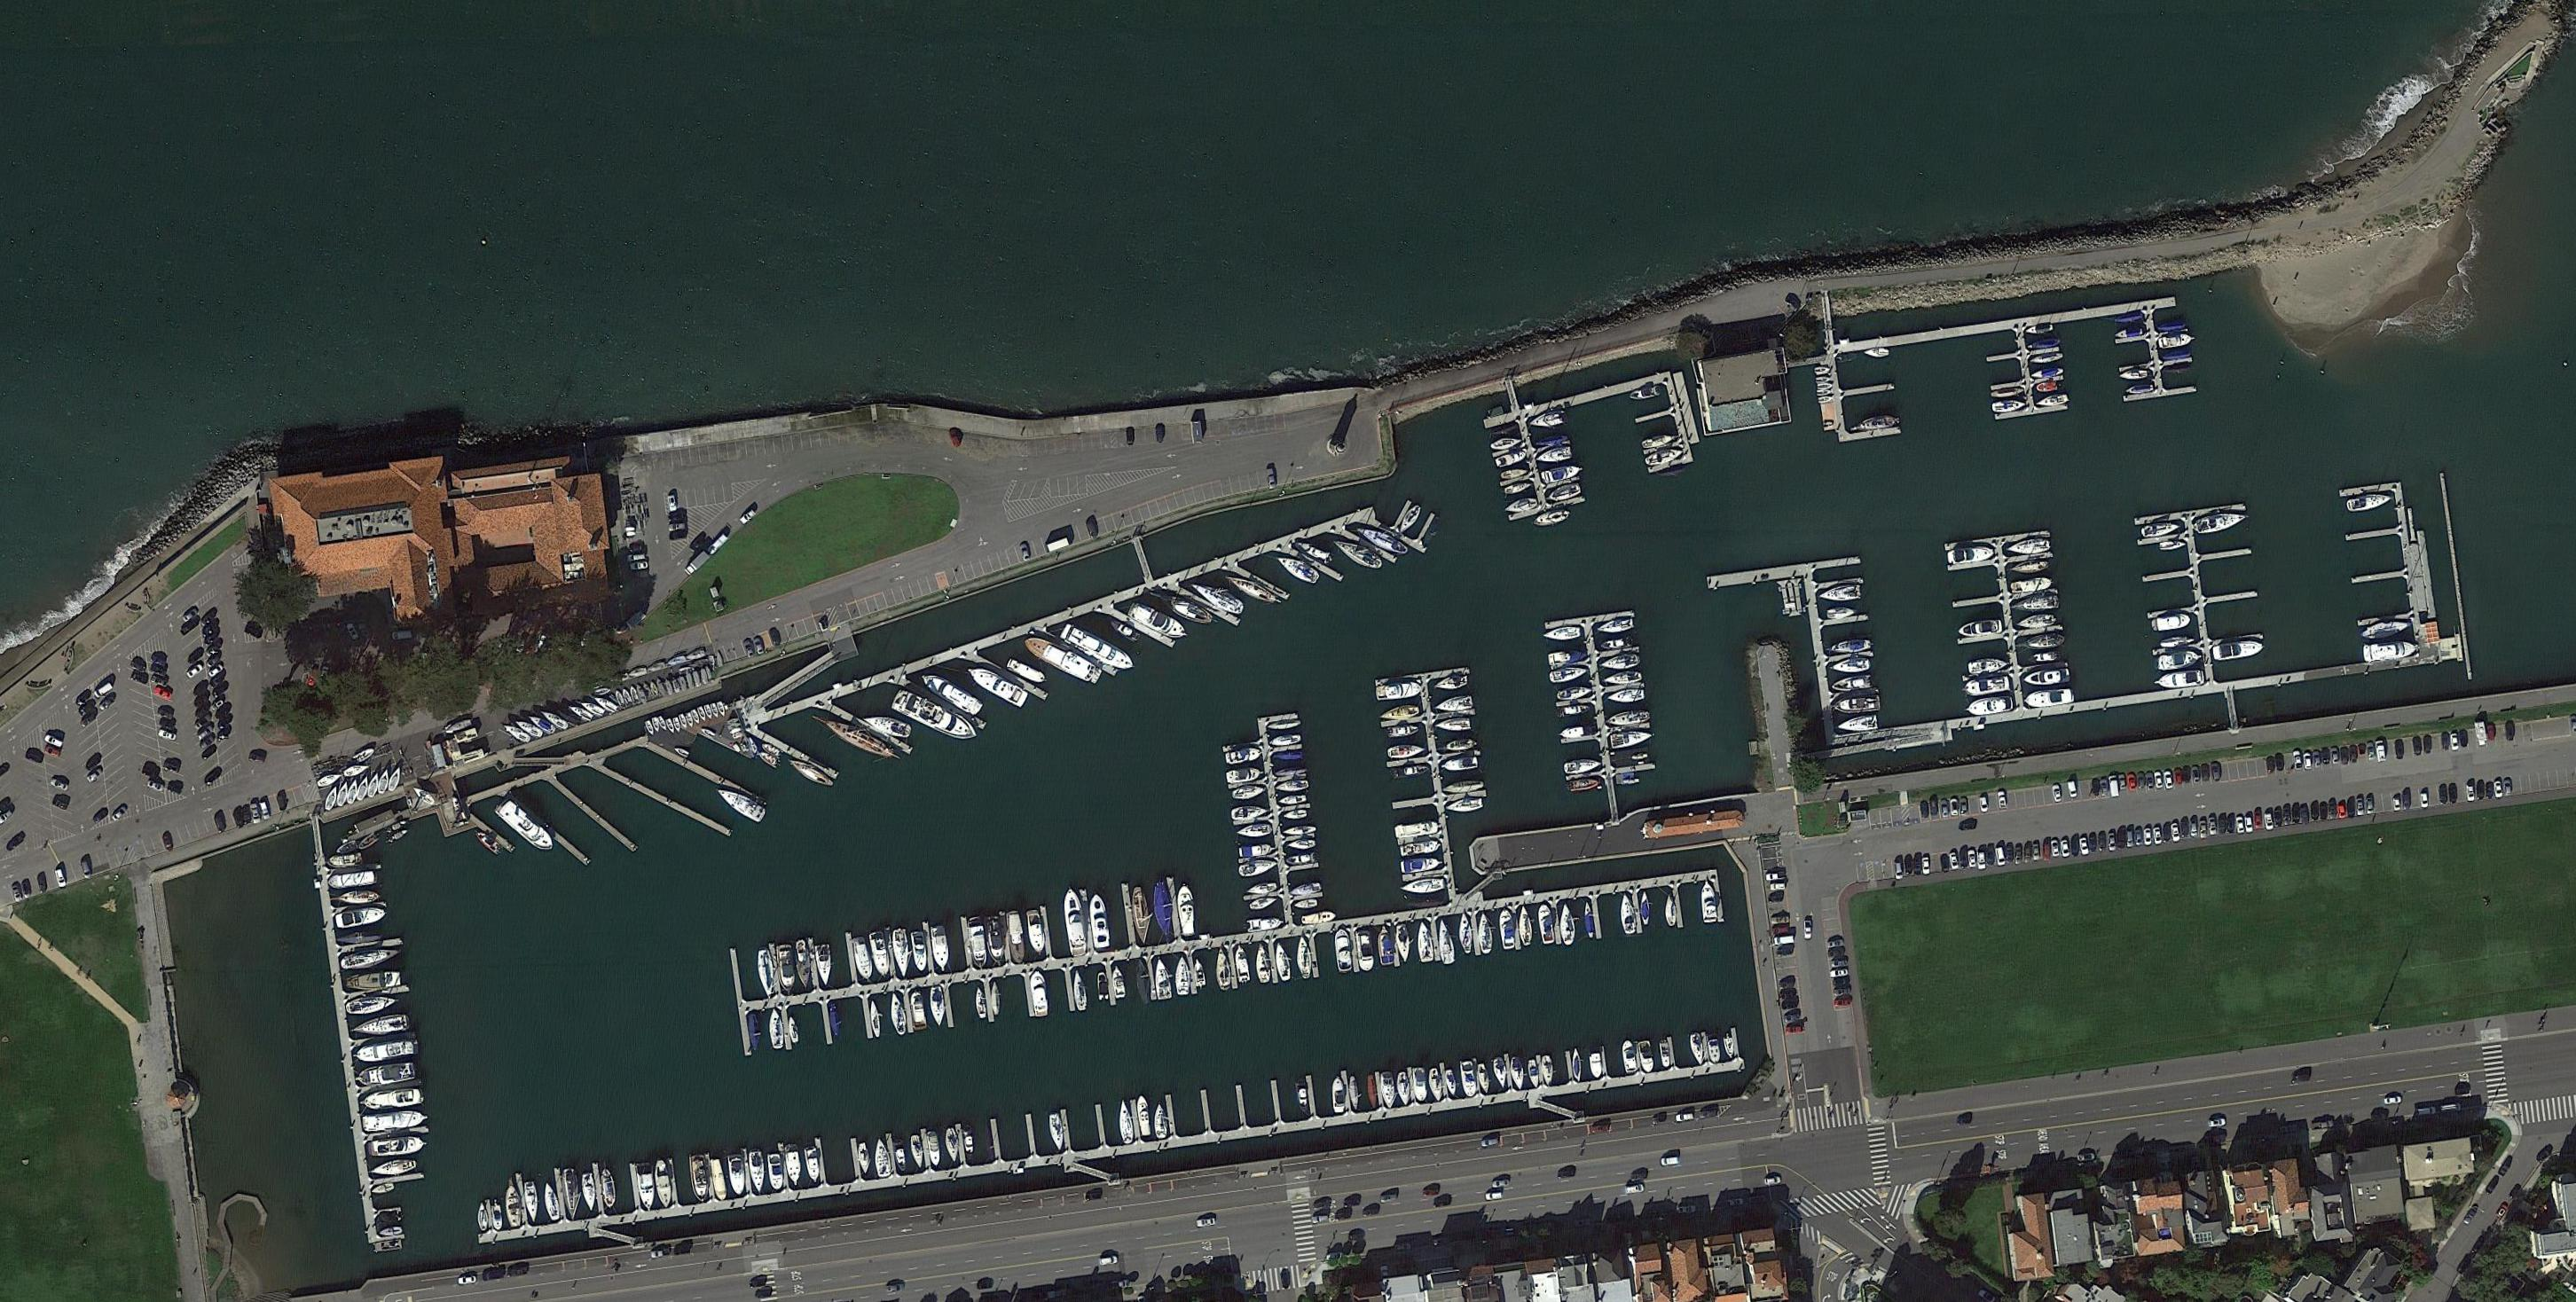harbor: (483, 488, 1453, 890), (468, 1016, 1747, 1246), (727, 870, 1244, 1058), (1242, 869, 1726, 988), (316, 854, 440, 1244), (2134, 503, 2270, 688), (1943, 530, 2076, 717), (1219, 712, 1327, 927), (1545, 613, 1659, 812), (1375, 668, 1491, 847), (2338, 480, 2441, 646), (1802, 556, 1887, 737), (1485, 399, 1586, 523), (1980, 312, 2069, 422), (2111, 294, 2199, 404), (1825, 337, 1902, 443), (1626, 372, 1696, 475)
ship: (892, 688, 982, 747), (1058, 619, 1138, 679), (1020, 631, 1103, 688), (820, 712, 900, 767), (495, 797, 558, 859), (918, 669, 985, 719), (965, 661, 1030, 709), (1126, 600, 1191, 646), (1149, 585, 1216, 629), (1330, 535, 1385, 576), (714, 784, 769, 825), (1355, 521, 1412, 561), (1224, 570, 1279, 609), (1189, 580, 1246, 618), (1061, 887, 1088, 958), (1274, 550, 1322, 588), (786, 756, 835, 790), (355, 1038, 420, 1065), (362, 1109, 430, 1134), (352, 1013, 412, 1040), (1151, 880, 1176, 943), (362, 1086, 424, 1111), (340, 947, 402, 972), (2192, 510, 2249, 536), (357, 1061, 417, 1086), (1129, 885, 1153, 947), (1086, 892, 1111, 948), (862, 712, 913, 739), (889, 927, 913, 981), (965, 915, 990, 970), (2362, 639, 2418, 663), (1005, 658, 1048, 688), (369, 1136, 427, 1158), (1292, 538, 1334, 568), (2360, 619, 2413, 643), (347, 970, 400, 993), (1005, 910, 1026, 967), (774, 943, 797, 995), (2010, 593, 2061, 616), (345, 995, 397, 1018), (335, 905, 387, 928), (985, 915, 1008, 965), (2156, 648, 2202, 673), (2025, 686, 2074, 709), (2212, 639, 2265, 661), (369, 1156, 417, 1179), (327, 870, 379, 892), (1025, 908, 1048, 955), (850, 935, 874, 981), (1963, 674, 2010, 697), (930, 923, 952, 973), (2015, 631, 2064, 653), (689, 1153, 711, 1202), (561, 1167, 581, 1221), (1176, 883, 1196, 937), (1968, 694, 2013, 717), (1948, 545, 1996, 566), (2157, 669, 2206, 691), (1543, 462, 1584, 487), (756, 948, 776, 1000), (654, 1158, 674, 1209), (503, 1177, 523, 1229), (1850, 414, 1897, 435), (869, 932, 890, 978), (794, 938, 814, 988), (636, 1162, 656, 1212), (2347, 492, 2392, 513), (2023, 668, 2071, 688), (1834, 694, 1882, 714), (473, 827, 505, 857), (1819, 583, 1862, 604), (1397, 502, 1423, 536), (1375, 681, 1422, 701), (1395, 819, 1442, 839), (1030, 968, 1048, 1018), (335, 928, 385, 947), (1644, 447, 1686, 468), (889, 991, 908, 1036), (928, 985, 948, 1030), (2006, 538, 2051, 558), (1958, 619, 2003, 639), (1116, 1099, 1136, 1144), (747, 1149, 767, 1194), (1214, 947, 1234, 991), (1558, 902, 1578, 947), (1533, 507, 1571, 530), (1530, 409, 1568, 432), (1437, 918, 1455, 967), (910, 930, 930, 973), (2152, 613, 2192, 634), (1611, 731, 1654, 751), (1400, 855, 1443, 875), (1173, 953, 1193, 996), (1239, 857, 1279, 879), (1355, 930, 1375, 973), (1415, 920, 1435, 963), (1699, 880, 1719, 923), (1618, 892, 1638, 935), (1400, 877, 1447, 895), (334, 888, 380, 907), (1420, 513, 1443, 550), (814, 945, 834, 986), (2141, 520, 2182, 540), (1548, 648, 1589, 668), (1601, 653, 1643, 673), (1830, 656, 1872, 676), (1968, 656, 2010, 676), (1835, 714, 1877, 734), (1153, 958, 1173, 1000), (1535, 445, 1573, 467), (2010, 576, 2054, 595), (1606, 709, 1651, 727), (1295, 935, 1314, 980), (1335, 928, 1354, 973), (1498, 907, 1516, 952), (1546, 480, 1581, 503), (1550, 664, 1589, 684), (874, 1138, 894, 1177), (727, 1156, 747, 1196), (1232, 943, 1252, 983), (1493, 448, 1530, 470), (1829, 638, 1872, 656), (711, 1159, 729, 1202), (1254, 942, 1272, 985), (1538, 902, 1556, 945), (1109, 618, 1141, 643), (767, 1153, 787, 1191), (767, 1008, 786, 1050), (1563, 757, 1604, 776), (1830, 674, 1872, 693), (1400, 839, 1442, 857), (600, 1167, 618, 1209), (1274, 942, 1292, 983), (1377, 925, 1395, 967), (1505, 495, 1540, 516), (502, 721, 531, 746), (540, 707, 570, 732), (1136, 1093, 1153, 1138), (1134, 958, 1151, 1003), (908, 991, 927, 1031), (1556, 684, 1593, 704), (1380, 704, 1420, 722), (1433, 696, 1473, 714), (543, 1181, 561, 1221), (1048, 1113, 1066, 1153), (1380, 1071, 1398, 1111), (1460, 1060, 1478, 1099), (1442, 779, 1485, 795), (523, 1181, 540, 1224), (786, 1144, 802, 1187), (1516, 903, 1533, 947), (1643, 432, 1681, 450), (2011, 558, 2050, 576), (1543, 624, 1581, 643), (1608, 688, 1646, 706), (1604, 669, 1643, 688), (580, 1174, 598, 1212), (1226, 747, 1264, 766), (1231, 804, 1269, 822), (528, 712, 558, 736), (1071, 970, 1088, 1011), (1458, 913, 1475, 955), (1477, 913, 1493, 955), (1598, 618, 1634, 636), (2018, 613, 2054, 631), (804, 1148, 822, 1184), (1621, 1038, 1639, 1074), (1490, 433, 1523, 453), (1387, 744, 1427, 761), (1445, 797, 1485, 814), (1395, 923, 1412, 963), (2157, 332, 2197, 349), (515, 717, 545, 739), (1433, 674, 1468, 693), (943, 1128, 962, 1162), (1274, 777, 1309, 795), (1227, 766, 1262, 784), (1237, 822, 1272, 840), (1638, 1040, 1656, 1074), (1508, 1056, 1526, 1091), (1427, 1068, 1445, 1103), (1153, 1103, 1169, 1141), (1330, 1076, 1347, 1114), (1412, 1066, 1428, 1104), (445, 716, 477, 736), (350, 744, 379, 766), (1442, 737, 1478, 754), (1435, 717, 1472, 734), (1247, 917, 1284, 933), (1239, 844, 1276, 860), (1300, 910, 1337, 927), (1689, 1031, 1706, 1068), (747, 1013, 762, 1053), (1993, 399, 2028, 415), (910, 1134, 927, 1169), (412, 784, 437, 807), (1232, 784, 1267, 800), (1560, 724, 1598, 739), (566, 702, 595, 722), (973, 986, 990, 1020), (1588, 1045, 1604, 1078), (1491, 1056, 1508, 1089), (1393, 764, 1430, 779), (1442, 757, 1478, 772), (1397, 1071, 1412, 1108), (1663, 892, 1677, 928), (593, 694, 620, 714), (580, 699, 606, 719), (1583, 900, 1596, 940), (1629, 385, 1661, 402), (857, 1143, 874, 1174), (2026, 337, 2061, 352), (2036, 394, 2071, 409), (827, 1001, 842, 1036), (1295, 1079, 1310, 1114), (1365, 1074, 1380, 1109), (1501, 465, 1530, 483), (1505, 480, 1533, 498), (322, 786, 340, 814), (869, 1000, 882, 1038), (2031, 350, 2064, 365), (2161, 634, 2194, 649), (1269, 734, 1302, 749), (1289, 882, 1322, 897), (1111, 967, 1126, 1000), (1477, 1063, 1491, 1096), (928, 1131, 942, 1167), (1536, 433, 1568, 448), (1570, 777, 1601, 792), (2028, 651, 2059, 666), (331, 852, 362, 867), (1541, 1056, 1556, 1088), (1706, 1033, 1721, 1065), (2156, 319, 2187, 334), (375, 769, 392, 797), (357, 832, 379, 854), (990, 981, 1003, 1016), (1347, 1076, 1360, 1111), (1267, 719, 1302, 732), (1282, 824, 1317, 837), (1570, 1048, 1583, 1083), (1638, 892, 1651, 927), (756, 751, 781, 769), (759, 741, 784, 759), (1247, 880, 1277, 895), (894, 1144, 908, 1174), (2031, 367, 2064, 380), (1991, 385, 2025, 399), (1387, 724, 1420, 737), (344, 762, 370, 779), (1274, 766, 1307, 779), (335, 781, 350, 809), (1279, 792, 1307, 807), (1287, 837, 1315, 852), (1251, 895, 1279, 910), (1193, 958, 1207, 986), (2164, 347, 2192, 362), (1601, 638, 1633, 651), (317, 772, 342, 789), (2119, 369, 2149, 382), (387, 766, 402, 792), (355, 776, 370, 802), (1659, 1040, 1672, 1069), (1528, 1060, 1541, 1089), (2164, 362, 2194, 375), (335, 840, 359, 857), (787, 1016, 801, 1045), (1827, 606, 1855, 619), (1096, 972, 1109, 1000), (1445, 1069, 1458, 1098), (628, 664, 649, 681), (2116, 327, 2143, 340), (2026, 322, 2053, 335), (1863, 345, 1890, 359), (345, 779, 359, 805), (367, 772, 380, 799), (1286, 854, 1312, 867), (477, 1202, 488, 1232), (2126, 384, 2154, 395), (2114, 312, 2143, 324), (1274, 751, 1302, 762), (2161, 540, 2187, 551), (492, 1206, 503, 1232), (379, 1226, 402, 1239), (370, 1182, 394, 1196), (1284, 809, 1307, 822), (1722, 1036, 1736, 1060), (1294, 898, 1319, 910), (648, 661, 669, 674), (668, 654, 688, 668), (686, 648, 706, 661), (2036, 382, 2058, 394), (673, 746, 691, 759), (699, 726, 717, 739), (658, 714, 669, 732), (678, 712, 689, 731), (628, 684, 639, 702), (621, 688, 633, 706), (615, 689, 626, 707), (747, 737, 761, 752), (644, 721, 656, 737), (666, 719, 678, 736), (684, 712, 696, 729), (716, 701, 727, 717), (709, 702, 721, 719), (696, 706, 708, 722), (593, 686, 611, 696), (651, 717, 661, 734), (673, 717, 683, 734), (704, 704, 714, 721), (691, 709, 701, 726), (1815, 365, 1830, 375), (726, 716, 741, 726), (731, 731, 746, 741), (1817, 395, 1832, 404), (1815, 375, 1830, 384), (727, 722, 741, 731), (1817, 389, 1832, 395), (1815, 384, 1830, 389)
